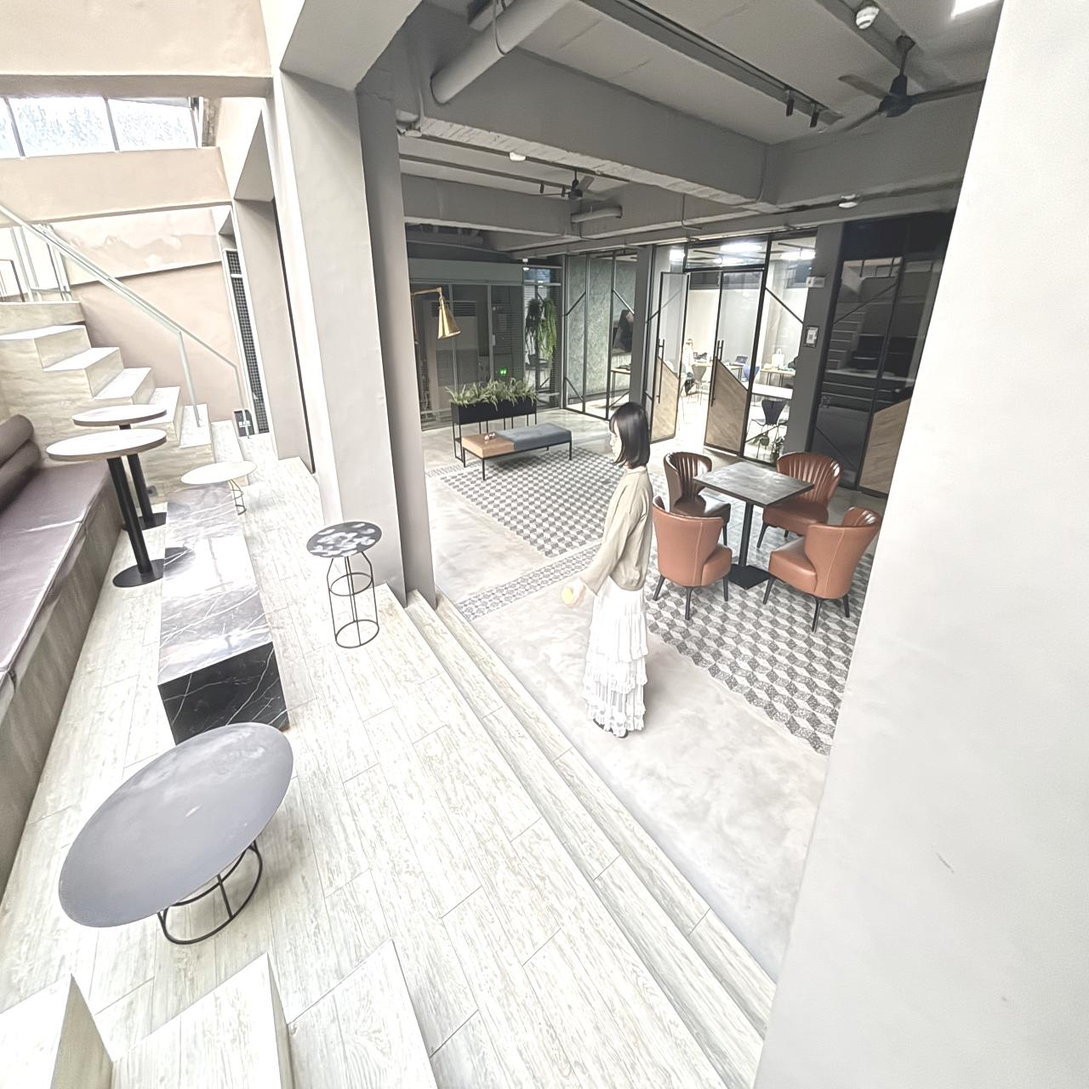person: (566, 402, 653, 737)
tennisball: (562, 587, 573, 604)
